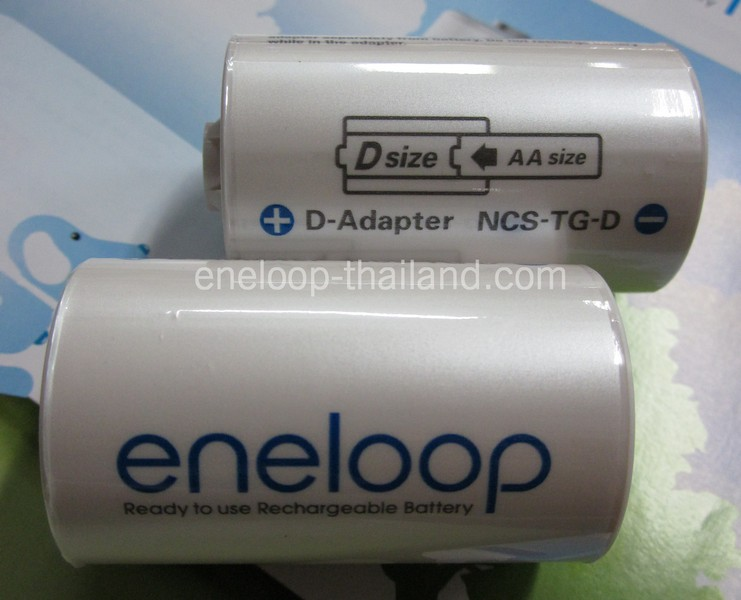Battery: (36, 256, 637, 570), (203, 34, 708, 294)
